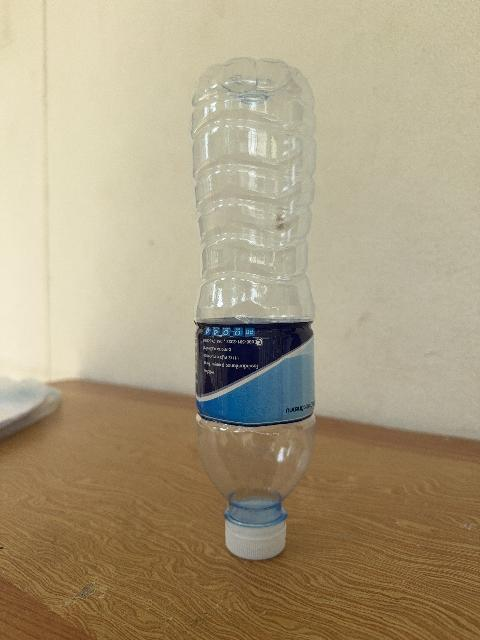bottle: (192, 58, 315, 559)
